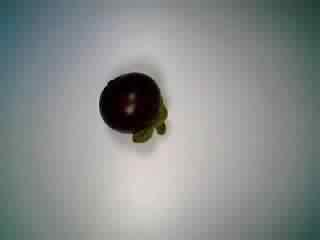mangosteen: (92, 68, 170, 148)
